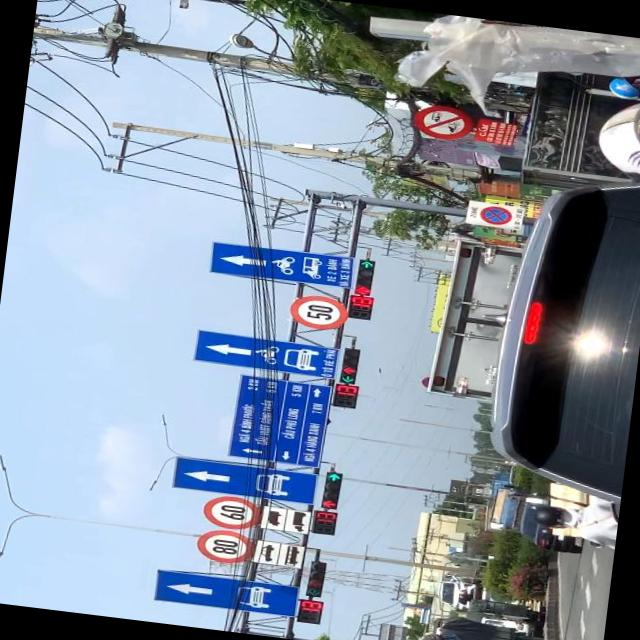P-127: (288, 290, 346, 328)
